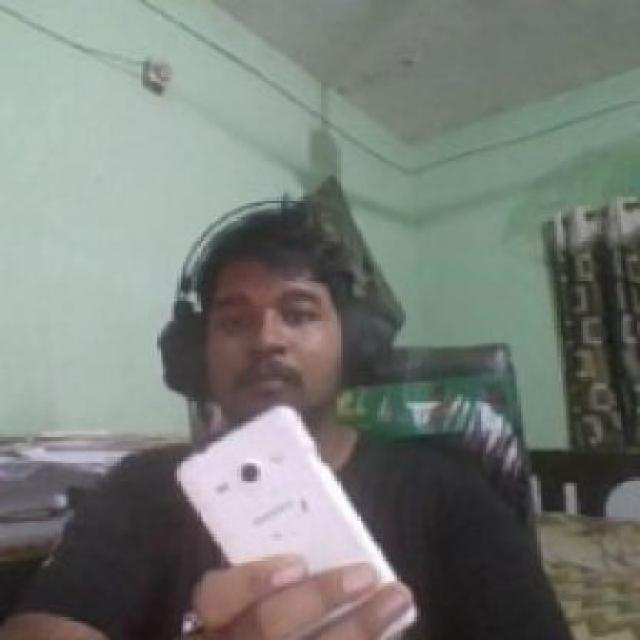Phone: (172, 400, 426, 637)
